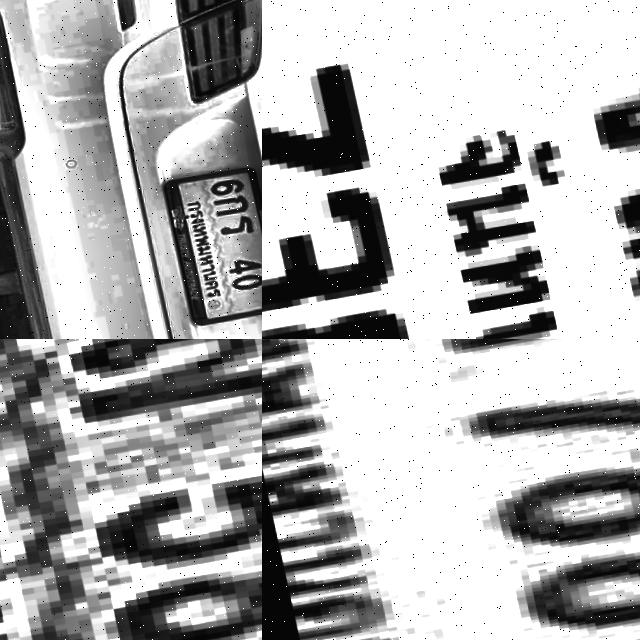license-plate: (262, 0, 640, 339), (262, 339, 640, 640), (0, 339, 262, 640), (151, 167, 262, 329)
